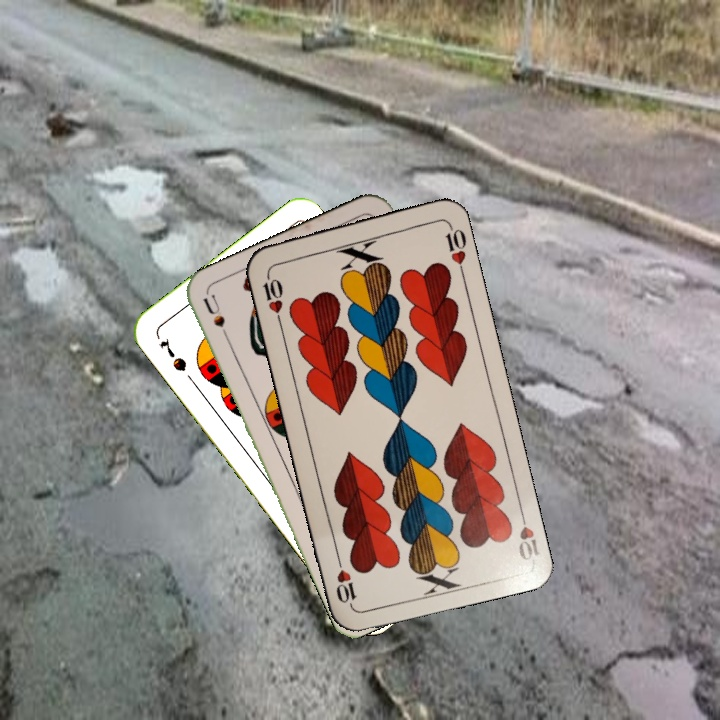H10: (258, 267, 286, 326), (514, 504, 542, 563)
S7: (155, 334, 190, 375)
SU: (199, 291, 234, 349)
